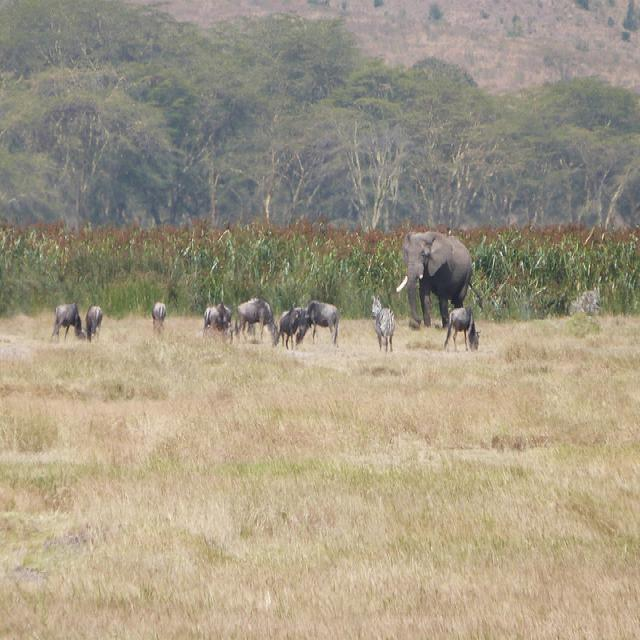cow: (234, 298, 277, 346), (294, 299, 336, 343), (442, 304, 480, 351), (278, 301, 308, 347), (49, 300, 81, 339), (202, 300, 231, 327), (82, 304, 102, 340), (150, 299, 165, 325)
